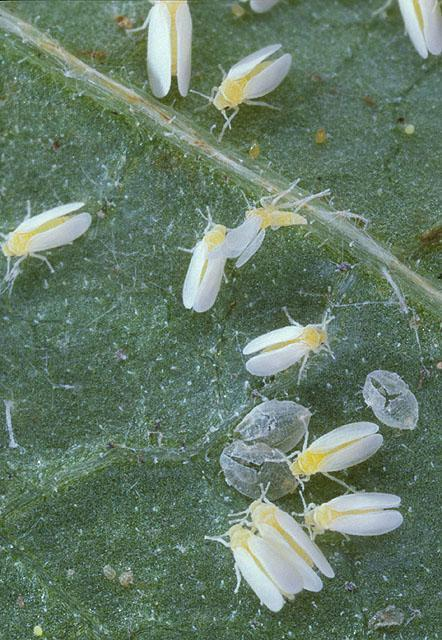whitefly: (226, 483, 336, 590), (204, 512, 305, 609), (265, 415, 385, 492), (225, 182, 330, 269), (193, 40, 294, 129), (1, 198, 93, 278), (175, 205, 234, 315), (135, 1, 198, 100), (246, 312, 335, 382), (294, 490, 406, 542)
